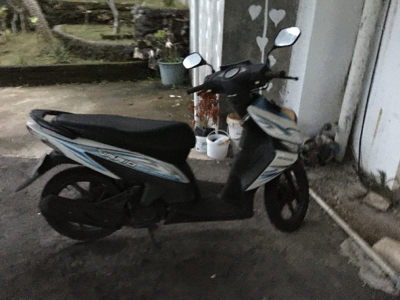moto: (27, 56, 330, 238)
